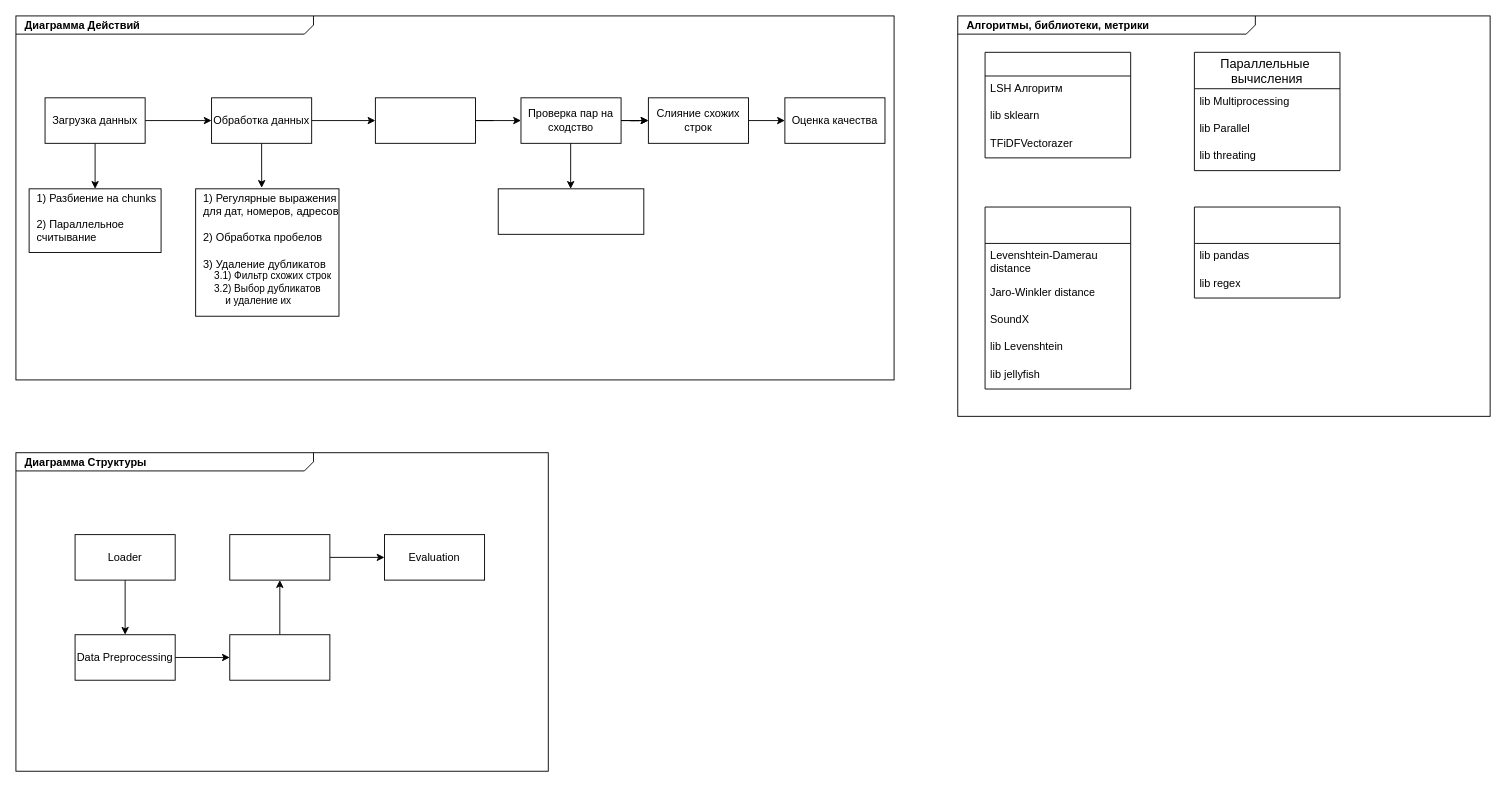
This 1506x787 diagram has some shape labels left out. The box of each missing label's shape, as (x1, y1, x2, y2) in pixels:
1) Фильтр схожих строк 2) Выбор схожих строк с помощью метрик: (497, 188, 644, 234)
Clasterizator: (229, 534, 330, 580)
Feature Selector: (229, 634, 330, 680)
Ввод и обработка: (1193, 206, 1340, 298)
Выбор фичей и метрик для сравнения: (374, 97, 475, 143)
Метрики: (984, 206, 1131, 389)
Фильтрация: (984, 51, 1131, 158)
